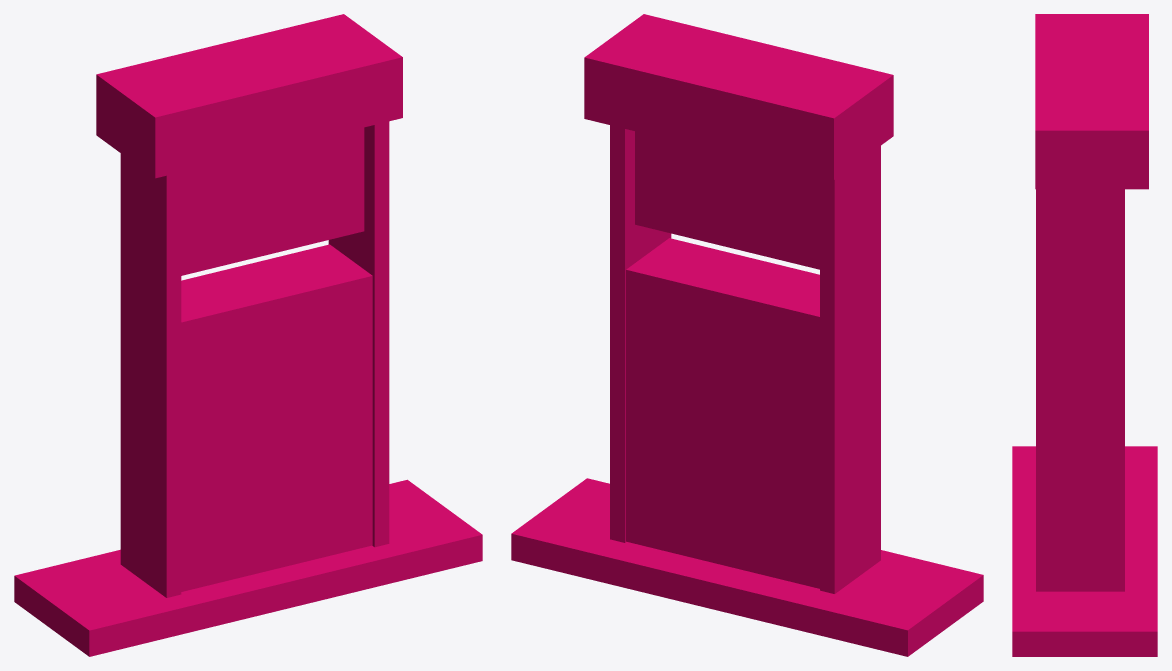
The model's file is Gasoline_Pump_01.fbx.
3 renders of one model, left to right at view 1: azimuth 30°, elevation 25°; view 2: azimuth 150°, elevation 25°; view 3: azimuth 270°, elevation 25°, orthographic. The views are drawn at different scales.
Visible parts, largest first — view 1: Gasoline_Pump_01; view 2: Gasoline_Pump_01; view 3: Gasoline_Pump_01.
Part boxes in pixels (left/top/right/bottom): Gasoline_Pump_01: left=14, top=14, right=482, bottom=656; Gasoline_Pump_01: left=511, top=14, right=983, bottom=656; Gasoline_Pump_01: left=1012, top=14, right=1157, bottom=656.
Size of the model in its own units: 229 by 285 by 75.76.
